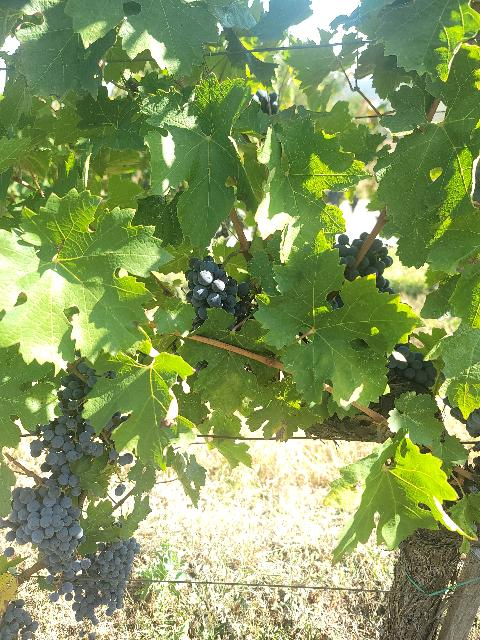grapes: (30, 362, 108, 496), (4, 480, 85, 575), (185, 255, 248, 330), (95, 539, 139, 610), (72, 569, 100, 625)
